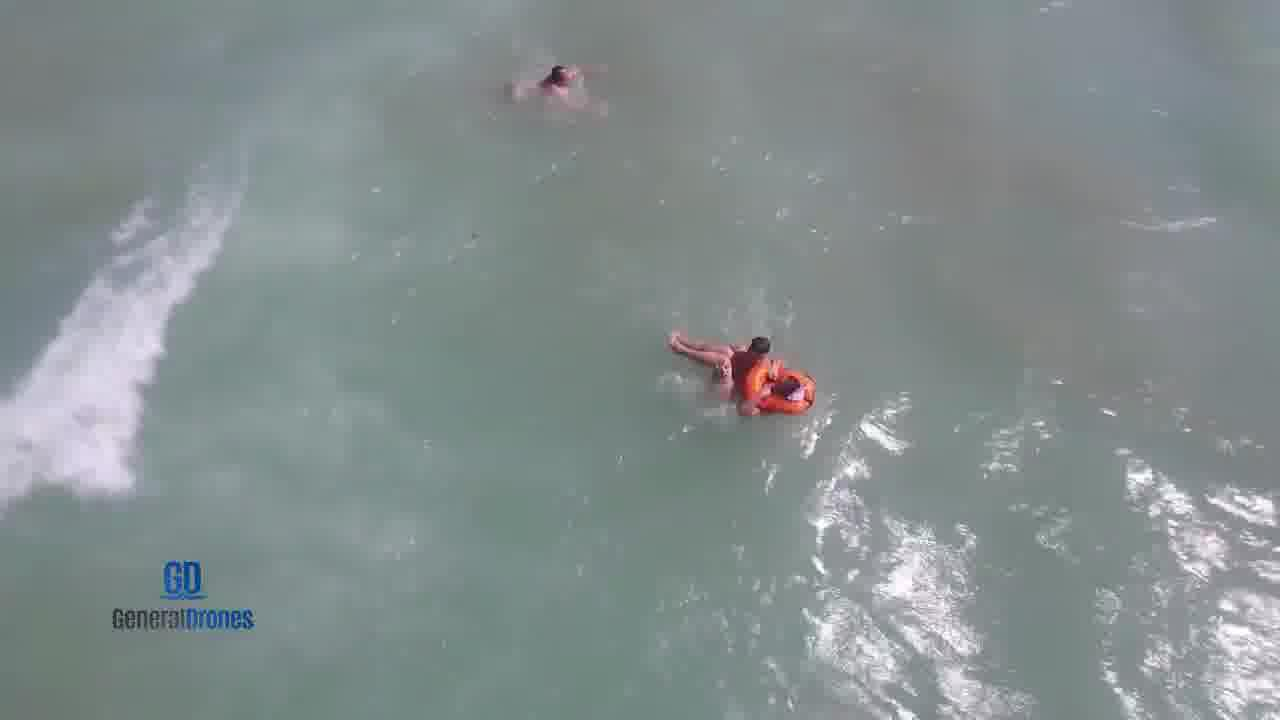swimmer: (657, 324, 816, 416), (521, 44, 608, 105), (724, 322, 798, 370)
